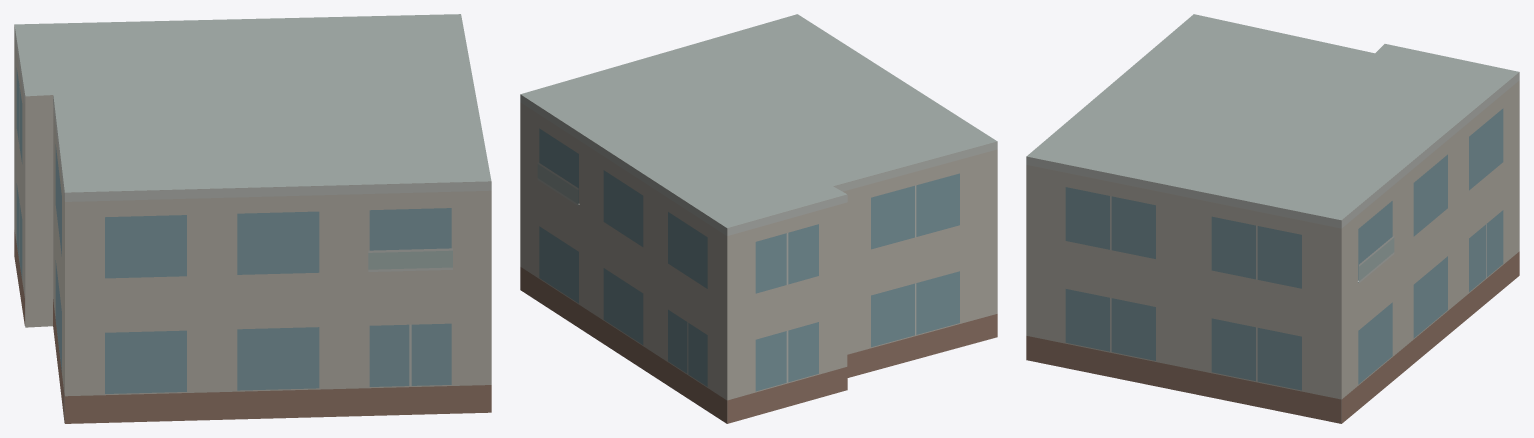
The model's file is survey-upis-32956498.glb.
The picture shows the model from 3 angles, left to right: view 1: azimuth 30°, elevation 25°; view 2: azimuth 150°, elevation 25°; view 3: azimuth 270°, elevation 25°; orthographic projection. The views are drawn at different scales.
Parts seen in each view (by area): view 1: survey-upis-32956498.tmp; view 2: survey-upis-32956498.tmp; view 3: survey-upis-32956498.tmp.
Part boxes in pixels (x1,y1,x2,y2): survey-upis-32956498.tmp: (14,14,491,423); survey-upis-32956498.tmp: (520,14,997,423); survey-upis-32956498.tmp: (1026,14,1519,423).
Bounding box in the file's own units: 13.05 × 6 × 13.19.
